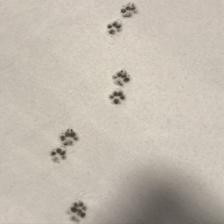cat: (55, 127, 84, 147), (107, 89, 129, 109), (47, 147, 68, 166), (112, 68, 131, 88)
